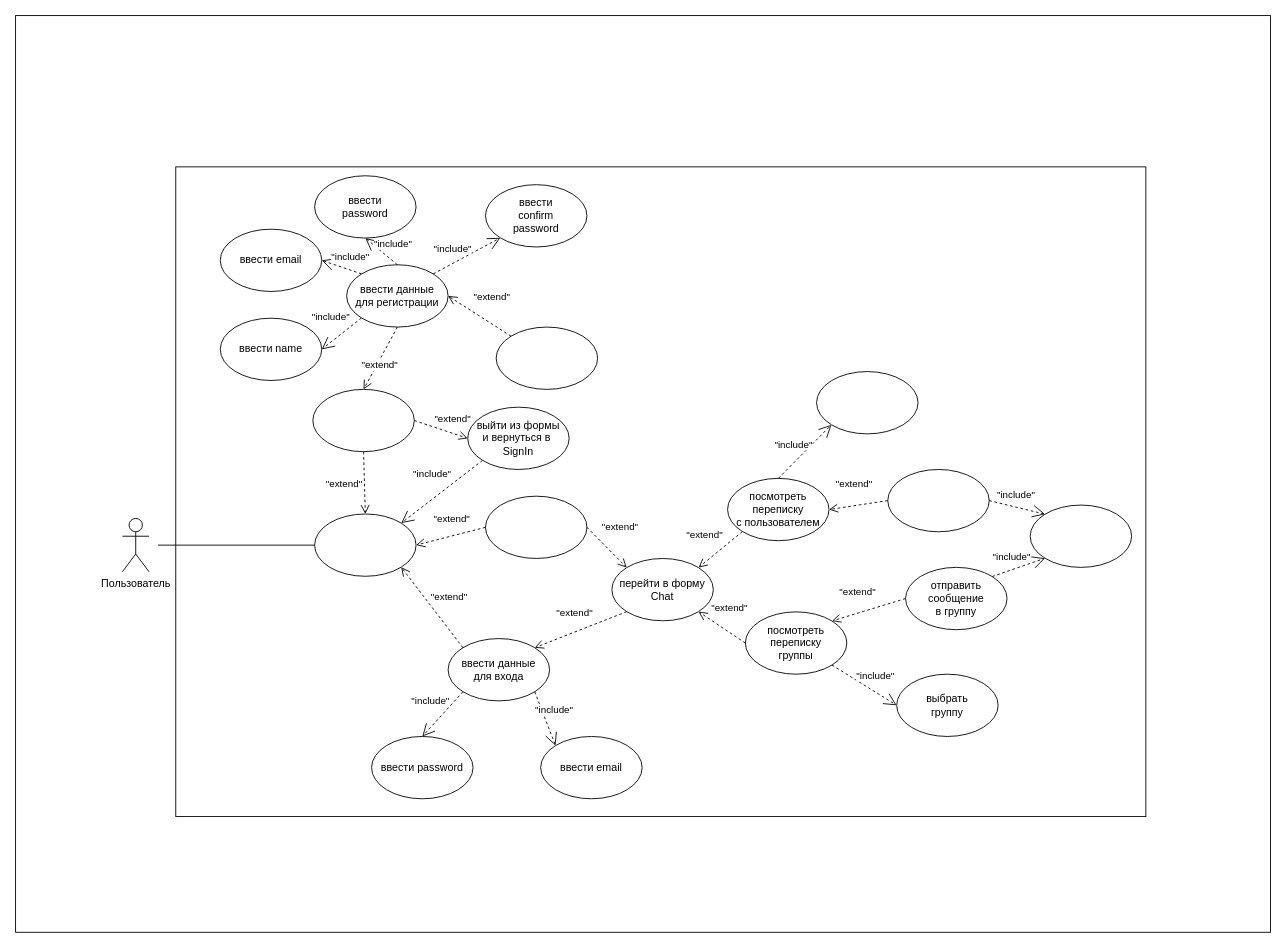
Image size: 1286x948. Some labels were removed from this diagram. The shapes that lost their labels are listed below. From the top down, each one's centre as x and y in pixels, then its label:
At (546,357): "зарегистрироваться".
At (363,420): "перейти в форму Registration".
At (867,402): "выбрать пользователя".
At (938,500): "отправить сообщение пользователю".
At (365,544): "Перейти в форму SignIn".
At (536,526): "Выйти из приложения".
At (1080,535): "ввести сообщение".
